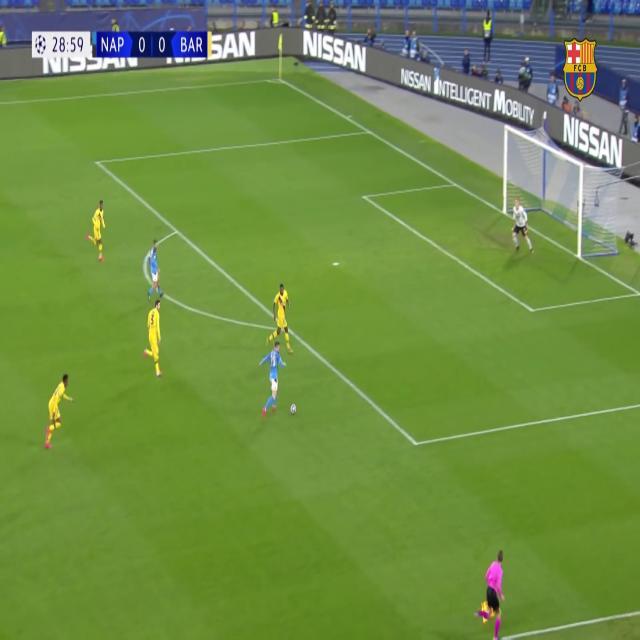ball: (289, 400, 298, 421)
team1: (43, 374, 73, 451), (142, 299, 164, 385), (268, 282, 294, 354), (89, 198, 107, 262)
team2: (259, 339, 288, 420), (148, 233, 163, 305)
